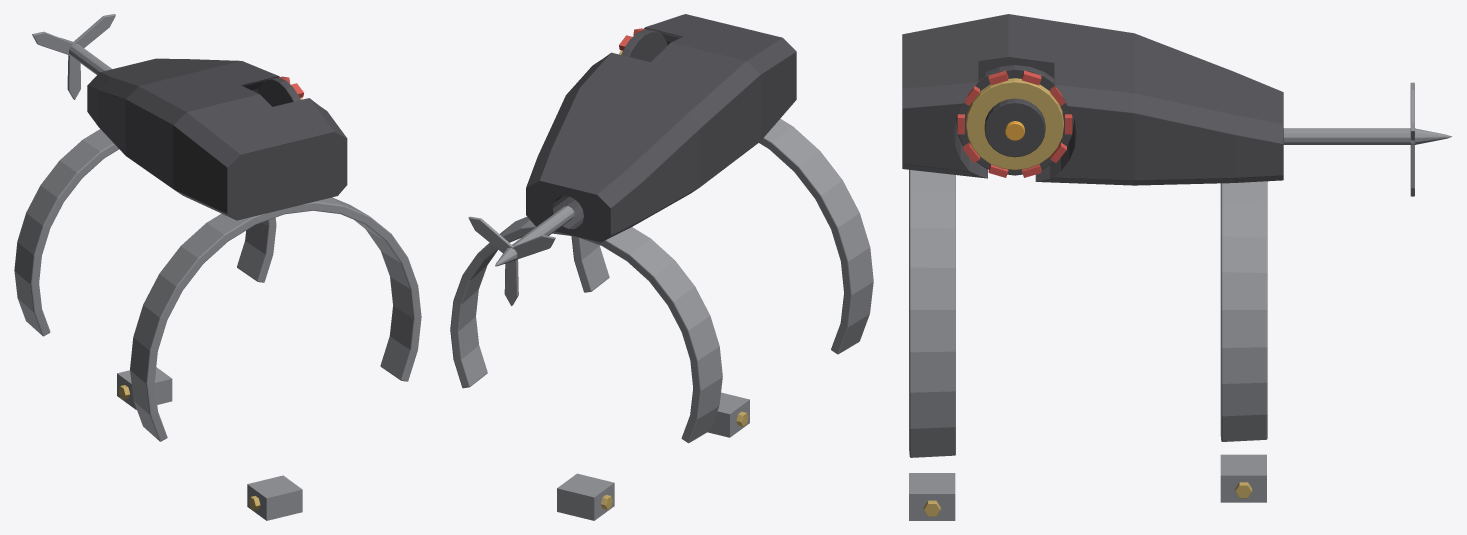
The model's file is TOW_placeholder_v1.glb.
The picture shows the model from 3 angles, left to right: view 1: azimuth 30°, elevation 25°; view 2: azimuth 150°, elevation 25°; view 3: azimuth 270°, elevation 25°; orthographic projection. The views are drawn at different scales.
Visible parts, largest first — view 1: N_Module, C_BandRear, C_BandFore, C_LugRear, C_LugFore, N_Drum_0, N_DartShaft, N_Barb_2, N_Barb_1, N_Barb_0; view 2: N_Module, C_BandFore, C_BandRear, C_LugFore, C_LugRear, N_Drum_0, N_DartShaft, N_Barb_2, N_Barb_0, N_Barb_1; view 3: N_Module, C_BandRear, C_BandFore, N_Drum_1, N_Drum_2, N_DartShaft, C_LugFore, C_LugRear, N_Drum_0.
Boxes of the visible parts, bbox=[...] form: N_Module: bbox=[87, 58, 347, 220]; C_BandRear: bbox=[130, 197, 421, 441]; C_BandFore: bbox=[14, 129, 276, 336]; C_LugRear: bbox=[247, 475, 302, 520]; C_LugFore: bbox=[117, 367, 172, 409]; N_Drum_0: bbox=[257, 77, 300, 106]; N_DartShaft: bbox=[69, 44, 112, 74]; N_Barb_2: bbox=[68, 14, 115, 55]; N_Barb_1: bbox=[32, 31, 73, 54]; N_Barb_0: bbox=[67, 41, 80, 99]; N_Module: bbox=[526, 14, 796, 242]; C_BandFore: bbox=[450, 216, 722, 443]; C_BandRear: bbox=[571, 118, 873, 354]; C_LugFore: bbox=[557, 473, 614, 520]; C_LugRear: bbox=[708, 392, 749, 437]; N_Drum_0: bbox=[621, 29, 667, 62]; N_DartShaft: bbox=[506, 206, 574, 260]; N_Barb_2: bbox=[468, 216, 517, 260]; N_Barb_0: bbox=[504, 245, 518, 305]; N_Barb_1: bbox=[512, 235, 555, 259]; N_Module: bbox=[902, 14, 1283, 185]; C_BandRear: bbox=[909, 169, 955, 457]; C_BandFore: bbox=[1220, 181, 1267, 441]; N_Drum_1: bbox=[966, 78, 1063, 169]; N_Drum_2: bbox=[984, 98, 1045, 157]; N_DartShaft: bbox=[1283, 128, 1415, 144]; C_LugFore: bbox=[1220, 454, 1266, 502]; C_LugRear: bbox=[909, 473, 955, 520]; N_Drum_0: bbox=[956, 65, 1073, 175].
Size of the model in its own units: 0.1146 by 0.156 by 0.166.
